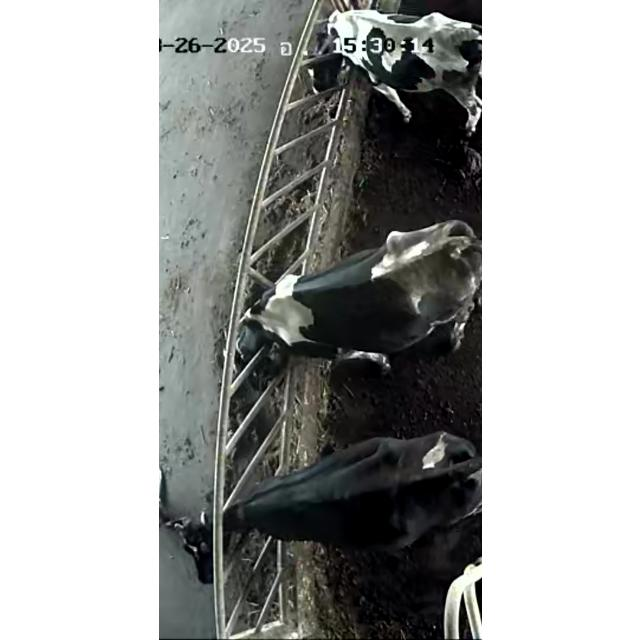eat: (171, 450, 325, 584), (190, 258, 364, 374), (268, 3, 416, 118)
